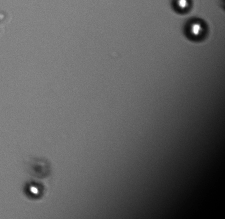Dead Cell: (29, 156, 50, 180)
Living Cell: (182, 16, 210, 43), (24, 180, 46, 201), (169, 1, 194, 15)
